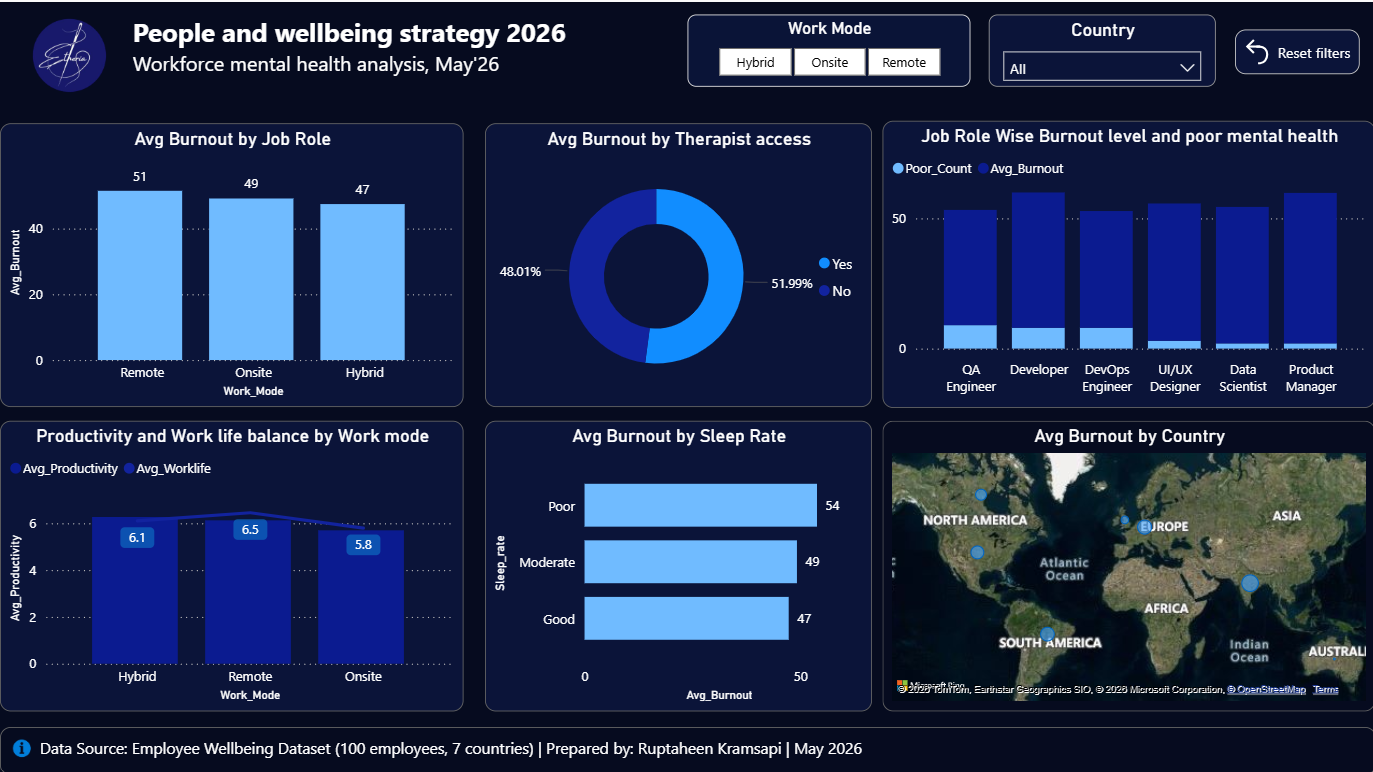

Layout of this report page (visuals, bound fields, positions):
{"tool":"powerbi","page":{"name":"Page 1","canvas":[1280,720],"ordinal":0},"visuals":[{"type":"clusteredColumnChart","title":"Avg Burnout by Job Role","fields":{"Y":["mental_health_remote_workers.Avg_Burnout"],"Category":["mental_health_remote_workers.Work_Mode"]},"box":[0,112.9,431.4,264.3],"z":0},{"type":"clusteredBarChart","title":"Avg Burnout by Sleep Rate","fields":{"Y":["mental_health_remote_workers.Avg_Burnout"],"Category":["mental_health_remote_workers.Sleep_rate"]},"box":[451.4,390,360,270],"z":1000},{"type":"lineClusteredColumnComboChart","title":"Productivity and Work life balance by Work mode","fields":{"Y2":["mental_health_remote_workers.Avg_Worklife"],"Y":["mental_health_remote_workers.Avg_Productivity"],"Category":["mental_health_remote_workers.Work_Mode"]},"box":[0,390,431.4,270],"z":2000},{"type":"map","title":"Avg Burnout by Country","fields":{"Category":["mental_health_remote_workers.Country"],"Size":["mental_health_remote_workers.Avg_Burnout"]},"box":[821.4,390,458.6,270],"z":3000},{"type":"donutChart","title":"Avg Burnout by Therapist access","fields":{"Y":["mental_health_remote_workers.Avg_Burnout"],"Category":["mental_health_remote_workers.Has_Access_To_Therapist"]},"box":[451.4,112.9,360,264.3],"z":4000},{"type":"columnChart","title":"Job Role Wise Burnout level and poor mental health ","fields":{"Y":["mental_health_remote_workers.Poor_Count","mental_health_remote_workers.Avg_Burnout"],"Category":["mental_health_remote_workers.Job_Role"]},"box":[821.4,110,458.6,267.1],"z":5000},{"type":"slicer","title":"Work Mode","fields":{"Values":["mental_health_remote_workers.Work_Mode"]},"box":[640,11.4,262.9,67.1],"z":6000},{"type":"slicer","title":"Country","fields":{"Values":["mental_health_remote_workers.Country"]},"box":[920,11.4,211.4,67.1],"z":7000},{"type":"textbox","box":[118.6,7.1,464.3,75.7],"z":8000},{"type":"textbox","box":[0,674.3,1280,45.7],"z":9000},{"type":"image","box":[3.8,683.1,33.8,23.8],"z":10000},{"type":"image","box":[0,2.9,138.6,92.9],"z":11000},{"type":"actionButton","box":[1148.6,25.7,115.7,41.4],"z":12000}]}

Visuals, with their boxes in screenshot pixels (x1, y1, x2, y2), scaled from the page's 1280x720 canvas onto the 1373x772 screenshot:
"Avg Burnout by Job Role" clusteredColumnChart: left=0, top=121, right=463, bottom=404
"Avg Burnout by Sleep Rate" clusteredBarChart: left=484, top=418, right=870, bottom=708
"Productivity and Work life balance by Work mode" lineClusteredColumnComboChart: left=0, top=418, right=463, bottom=708
"Avg Burnout by Country" map: left=881, top=418, right=1372, bottom=708
"Avg Burnout by Therapist access" donutChart: left=484, top=121, right=870, bottom=404
"Job Role Wise Burnout level and poor mental health " columnChart: left=881, top=118, right=1372, bottom=404
"Work Mode" slicer: left=686, top=12, right=969, bottom=84
"Country" slicer: left=987, top=12, right=1214, bottom=84
textbox: left=127, top=8, right=625, bottom=89
textbox: left=0, top=723, right=1372, bottom=771
image: left=4, top=732, right=40, bottom=758
image: left=0, top=3, right=149, bottom=103
actionButton: left=1232, top=28, right=1356, bottom=72
